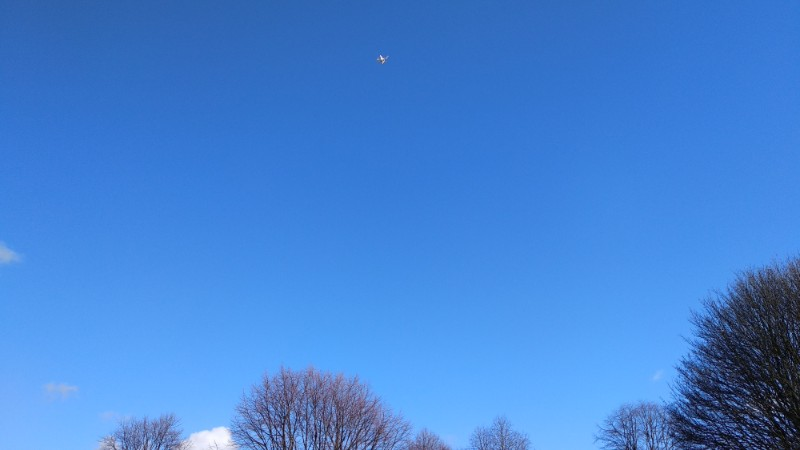drone: (377, 52, 388, 64)
